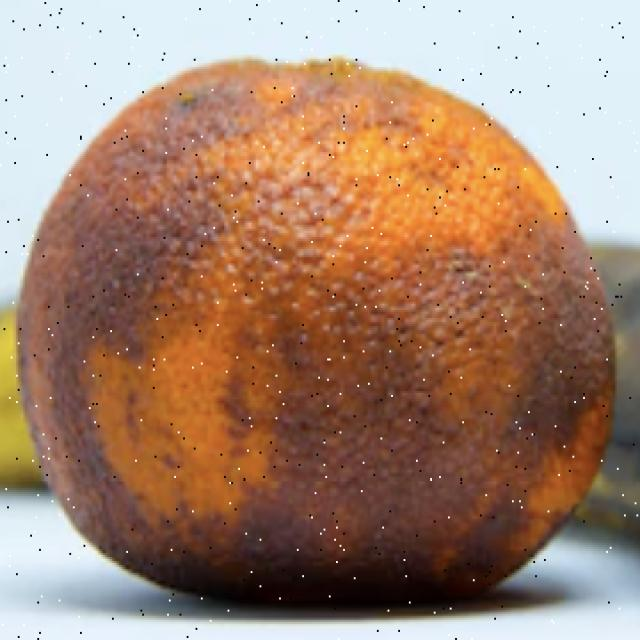Organik: (22, 40, 620, 628)
